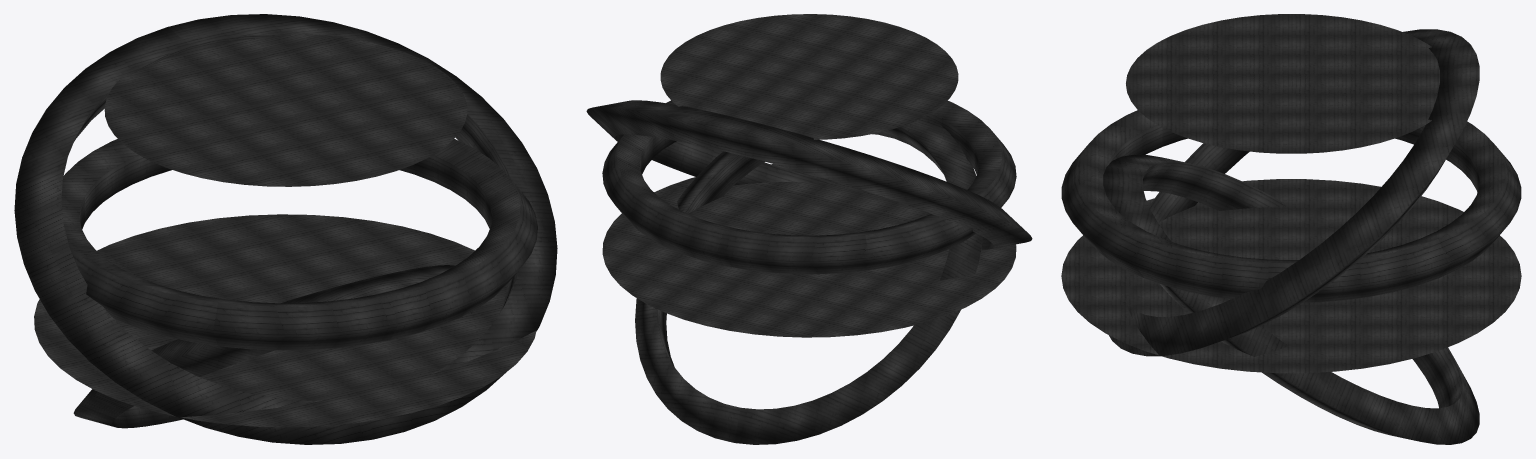
Rendered from tvt.obj.
3 views of the same model, side by side, from view 1: azimuth 30°, elevation 25°; view 2: azimuth 150°, elevation 25°; view 3: azimuth 270°, elevation 25° (orthographic). The views are drawn at different scales.
Parts seen in each view (by area): view 1: Cylinder, Cylinder1, Torus1, Torus, Torus2; view 2: Cylinder, Cylinder1, Torus, Torus2, Torus1; view 3: Cylinder, Cylinder1, Torus, Torus1, Torus2.
Part boxes in pixels (box(x1,y1,x2,y2)): Cylinder: box(34, 214, 536, 427); Cylinder1: box(104, 33, 467, 186); Torus1: box(14, 14, 557, 444); Torus: box(61, 138, 537, 350); Torus2: box(73, 265, 474, 428); Cylinder: box(602, 164, 1016, 337); Cylinder1: box(660, 14, 958, 139); Torus: box(602, 100, 1016, 274); Torus2: box(635, 115, 982, 444); Torus1: box(586, 100, 1032, 249); Cylinder: box(1061, 179, 1521, 373); Cylinder1: box(1126, 14, 1439, 153); Torus: box(1061, 110, 1521, 302); Torus1: box(1109, 29, 1479, 356); Torus2: box(1103, 154, 1479, 444).
Bounding box in the file's own units: 11.5 × 8.29 × 10.
Materials: 1 (1 with a texture image).
